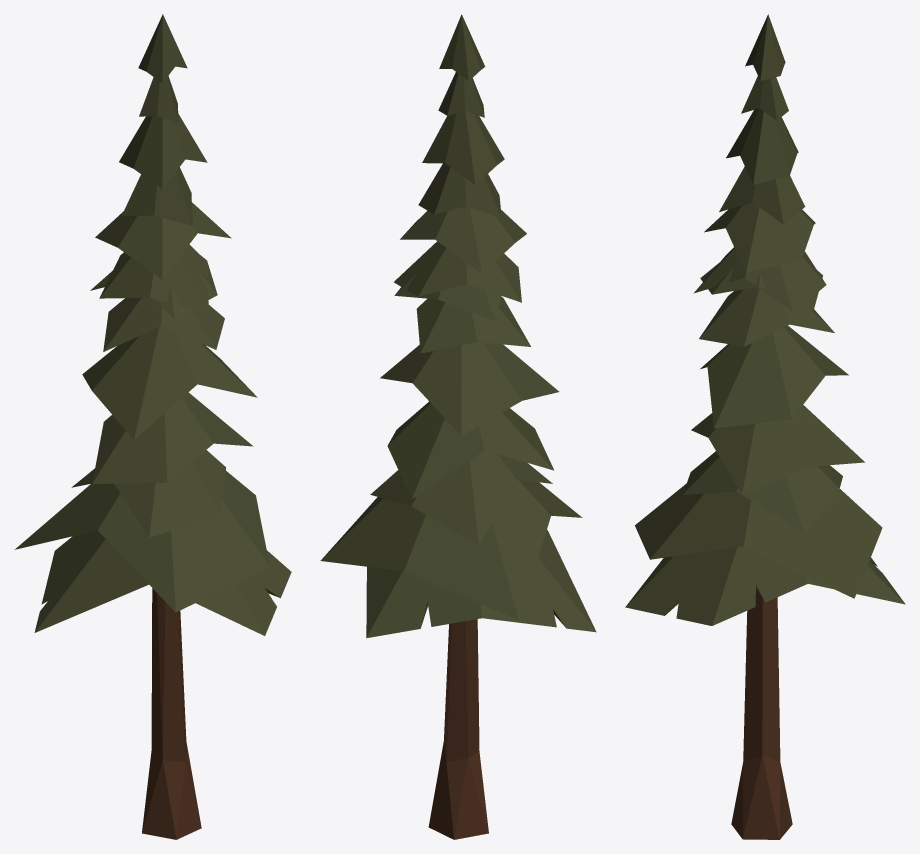
Rendered from LPWarPack_PineTree.fbx.
3 renders of one model, left to right at view 1: azimuth 30°, elevation 25°; view 2: azimuth 150°, elevation 25°; view 3: azimuth 270°, elevation 25°, orthographic.
Parts seen in each view (by area): view 1: PineTree; view 2: PineTree; view 3: PineTree.
Part boxes in pixels (x1,y1,x2,y2): PineTree: (14,14,291,839); PineTree: (320,14,596,839); PineTree: (625,14,905,839).
Size of the model in its own units: 320 by 1068 by 334.
